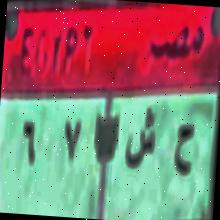6: (18, 116, 38, 168)
7: (60, 118, 84, 168)
7aa: (172, 117, 196, 184)
sheen: (123, 104, 158, 176)
